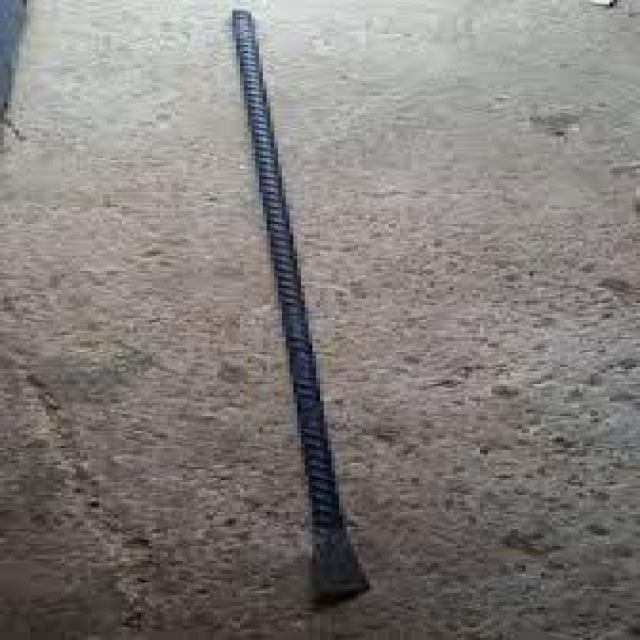Linggis: (172, 5, 418, 617)
